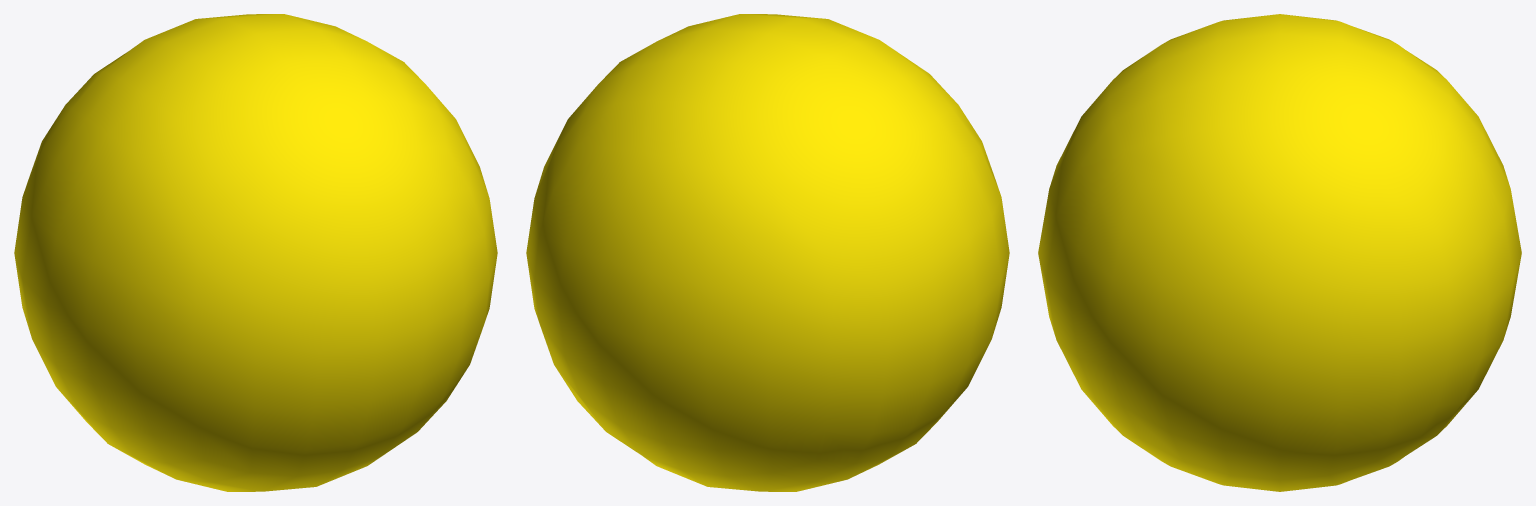
File: Ball.gltf
3 renders of one model, left to right at view 1: azimuth 30°, elevation 25°; view 2: azimuth 150°, elevation 25°; view 3: azimuth 270°, elevation 25°, orthographic.
Visible parts, largest first — view 1: Cube; view 2: Cube; view 3: Cube.
Part boxes in pixels (box(x1,y1,x2,y2)): Cube: box(14, 14, 497, 491); Cube: box(526, 14, 1009, 491); Cube: box(1038, 14, 1521, 491).
Bounding box in the file's own units: 3.46 × 3.46 × 3.46.
1 material, 1 textured.
